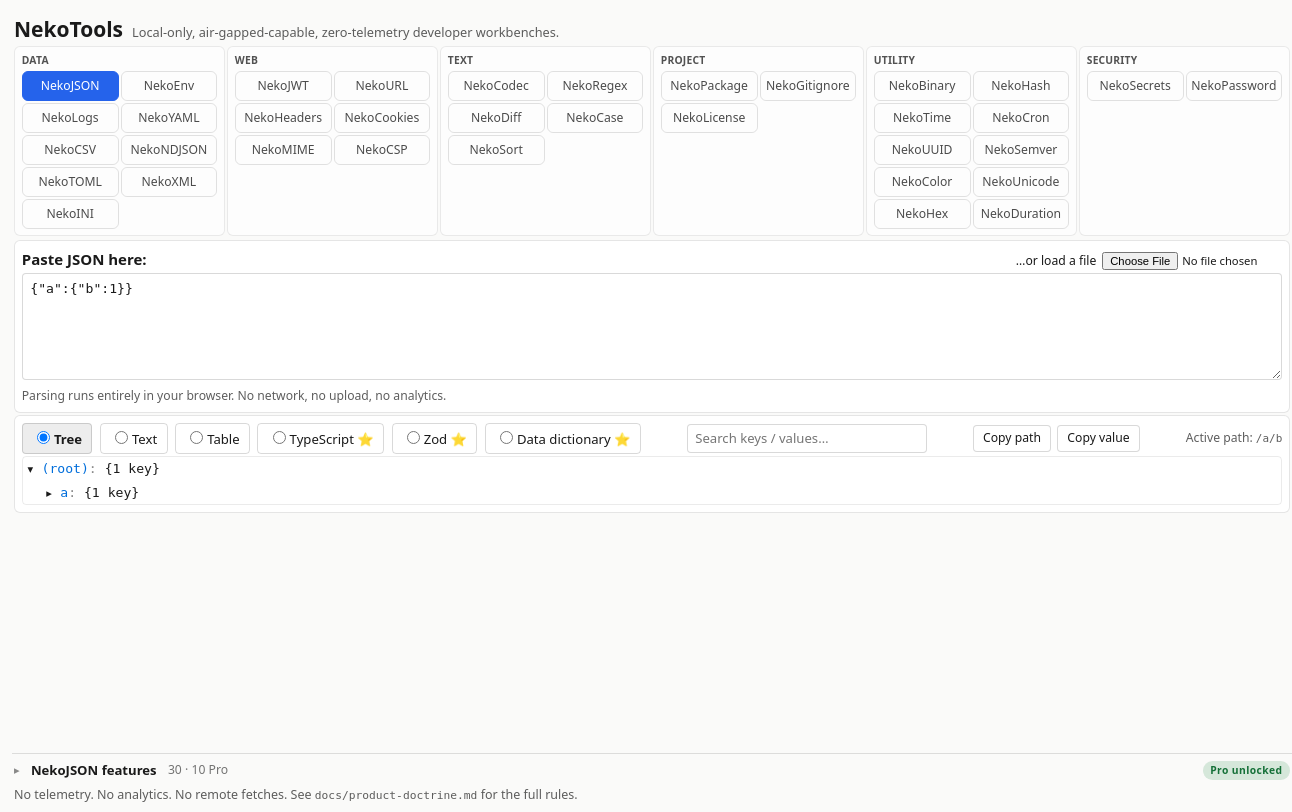
Scenario: App integration › Phase 1.1h: Copy path writes the active JSON Pointer via the injected clipboard
The width and height of the screenshot is (1292, 812).
Click the button with test id "copy-path".
click(1012, 439)  # box x1=973 y1=425 x2=1051 y2=452
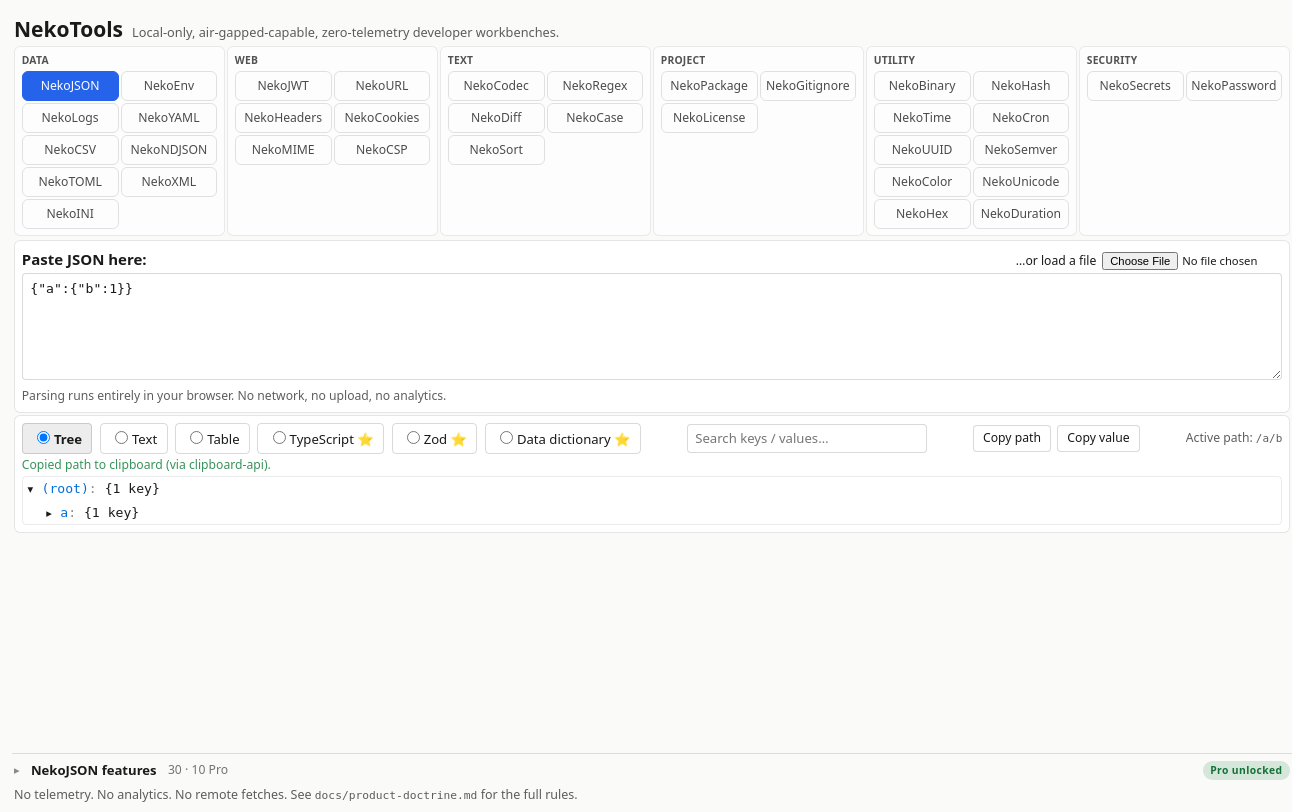
Result: the message with test id "copy-status" shows "Copied path" at x1=22 y1=456 x2=271 y2=473
